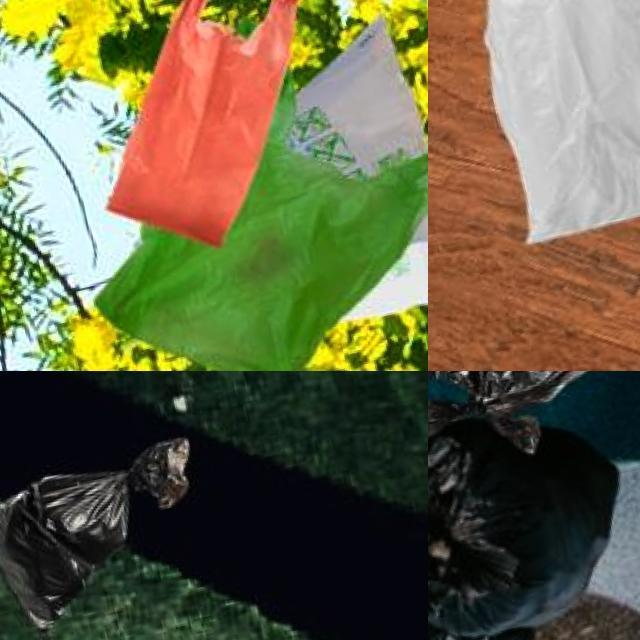waste: (60, 41, 428, 371), (63, 0, 340, 263), (246, 2, 428, 336), (428, 400, 639, 640), (435, 0, 640, 245), (0, 437, 219, 638), (428, 371, 640, 461), (428, 536, 552, 640)
